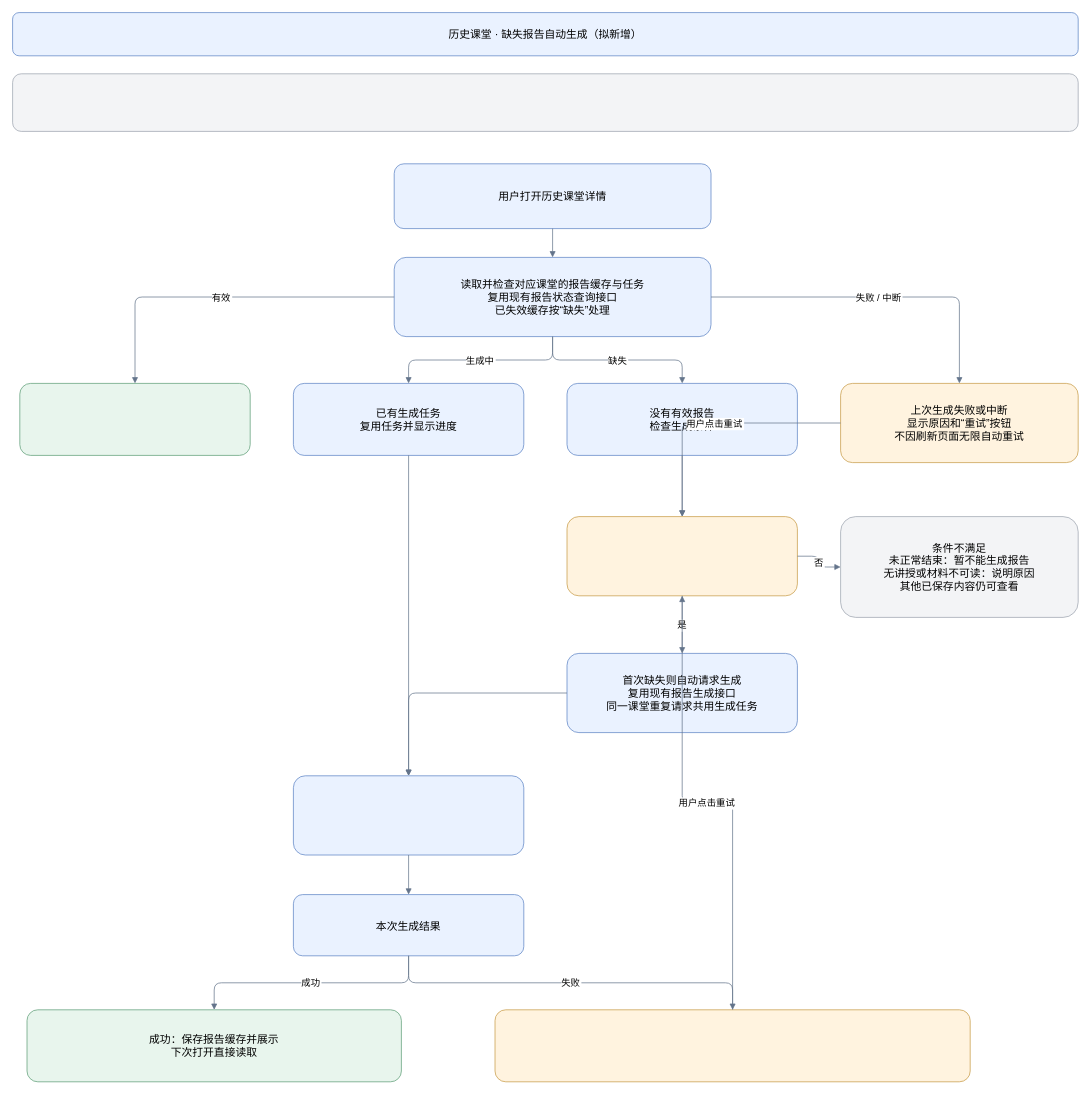
This 1091x1094 diagram has some shape labels left out. Here are the shapes that lost their labels. From the top down, the centre of each, then its label:
At pixel 545 102: "报告独立缓存，不以课堂日志里是否包含报告作为判断依据。自动补生成会调用模型；画像、对话和导出日志可先正常使用。".
At pixel 134 419: "已有有效报告 直接展示，结束本次检查".
At pixel 681 556: "是否正常结束，且有教师讲授内容 并能被现有报告读取器有效解析？".
At pixel 408 815: "展示生成进度并轮询报告状态 切换页面不取消后台任务 再次打开时继续查询同一任务".
At pixel 732 1045: "失败：展示原因与重试按钮 用户点击后重新检查条件并发起生成".
